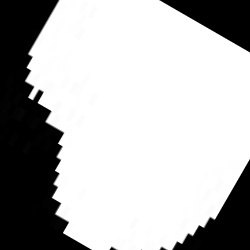spot: (26, 3, 248, 248)
